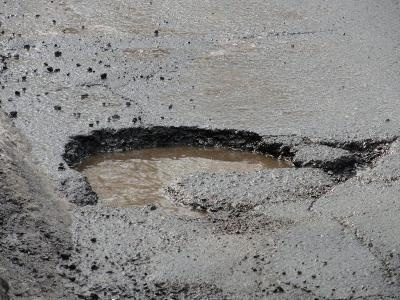pothole: (56, 121, 303, 218), (309, 135, 396, 186)
